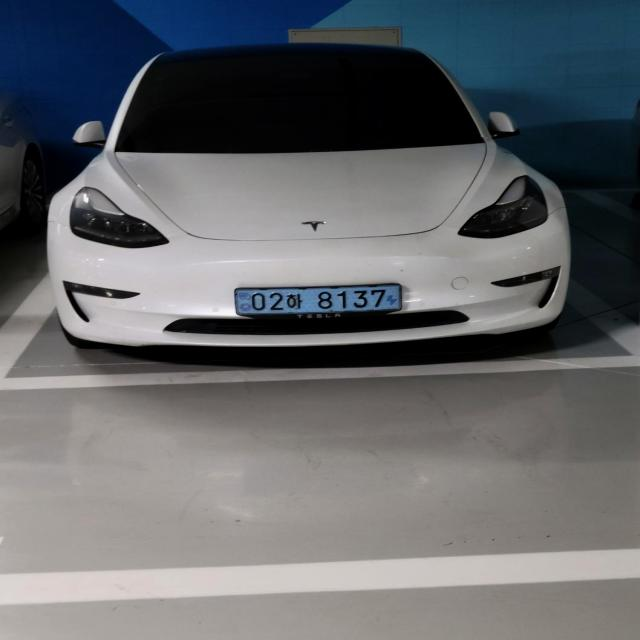EV_plate: (232, 281, 409, 326)
car: (50, 36, 572, 355)
